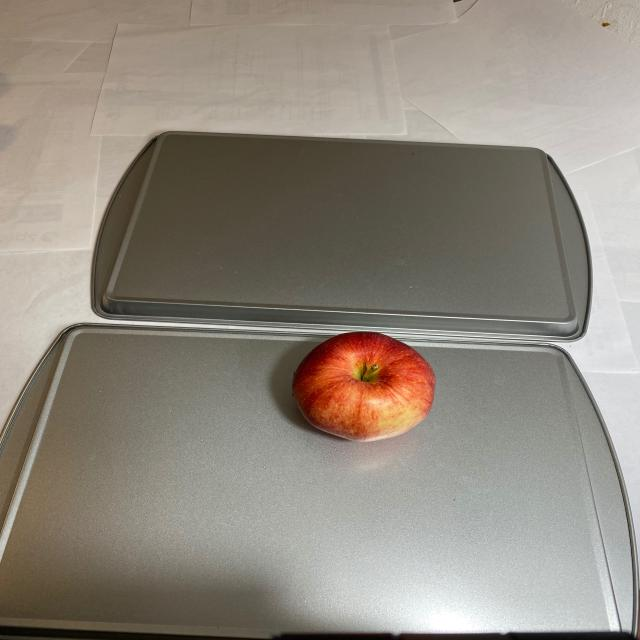apple: (287, 333, 436, 442)
